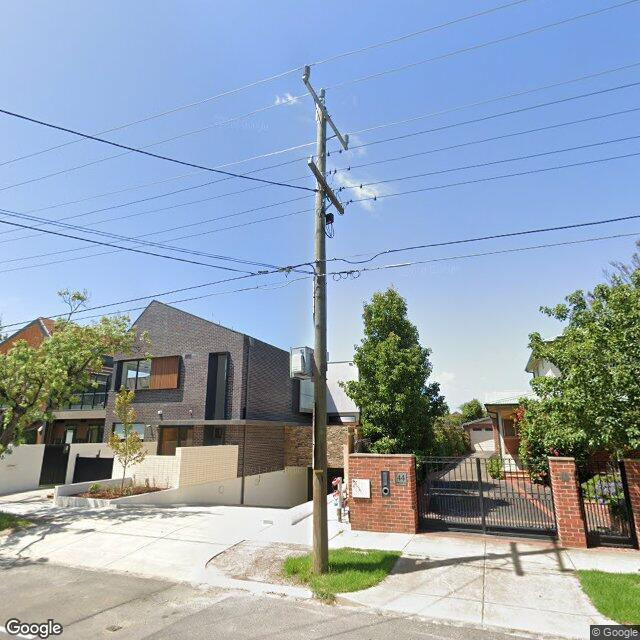HV-transmission: (305, 64, 349, 146)
crossarm: (304, 79, 348, 151), (307, 159, 343, 214)
timber-pole: (312, 99, 328, 573)
transformer: (289, 346, 314, 380)
